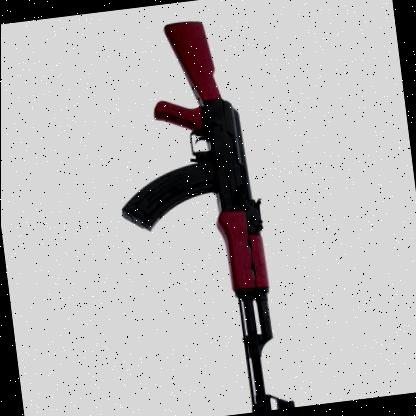rifle: (85, 13, 314, 416)
